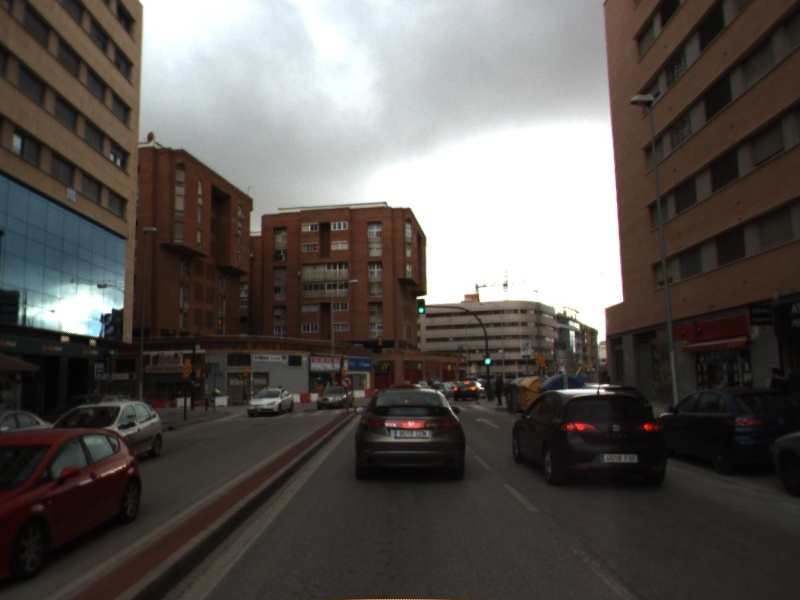STRAIGHT: (473, 415, 502, 430)
